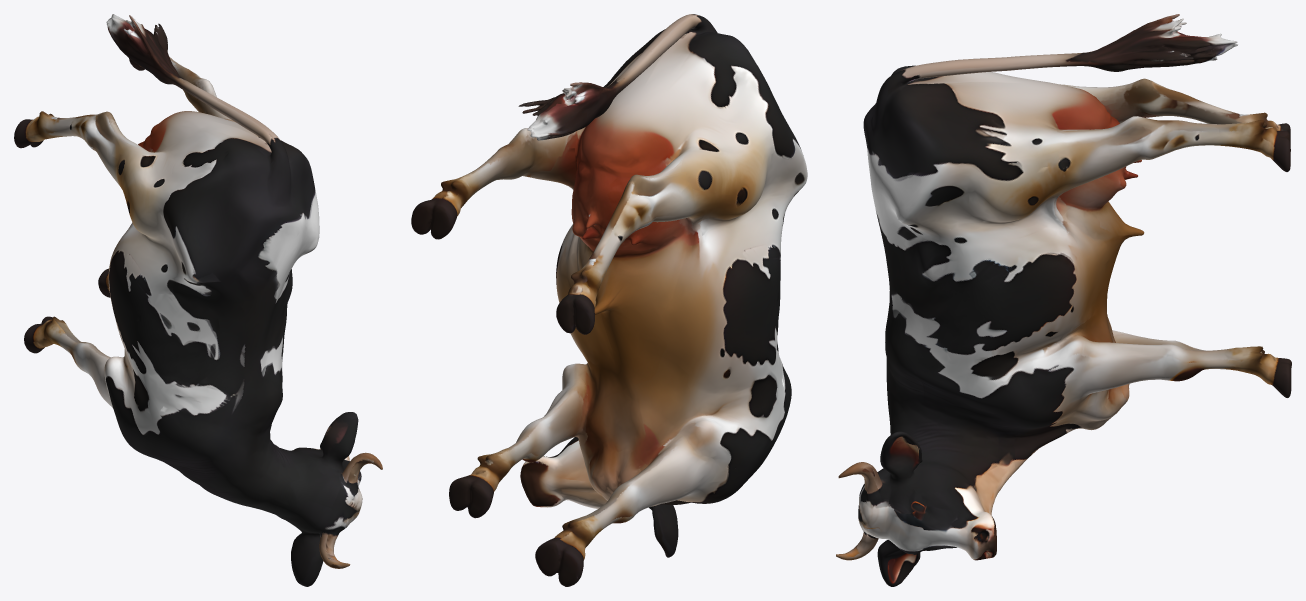
Rendered from cow.glb.
3 renders of one model, left to right at view 1: azimuth 30°, elevation 25°; view 2: azimuth 150°, elevation 25°; view 3: azimuth 270°, elevation 25°, orthographic. The views are drawn at different scales.
Visible parts, largest first — view 1: Object_4; view 2: Object_4; view 3: Object_4.
Boxes of the visible parts, x1,y1,x2,y2 form: Object_4: (14, 14, 382, 586); Object_4: (411, 14, 807, 586); Object_4: (836, 14, 1291, 586).
Size of the model in its own units: 1.1 by 2.44 by 1.85.
Materials: 1 (1 with a texture image).
